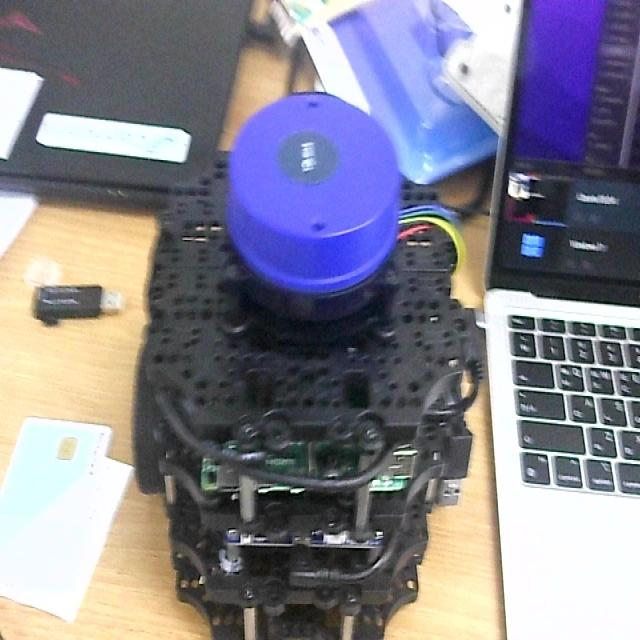turtle: (129, 88, 488, 640)
